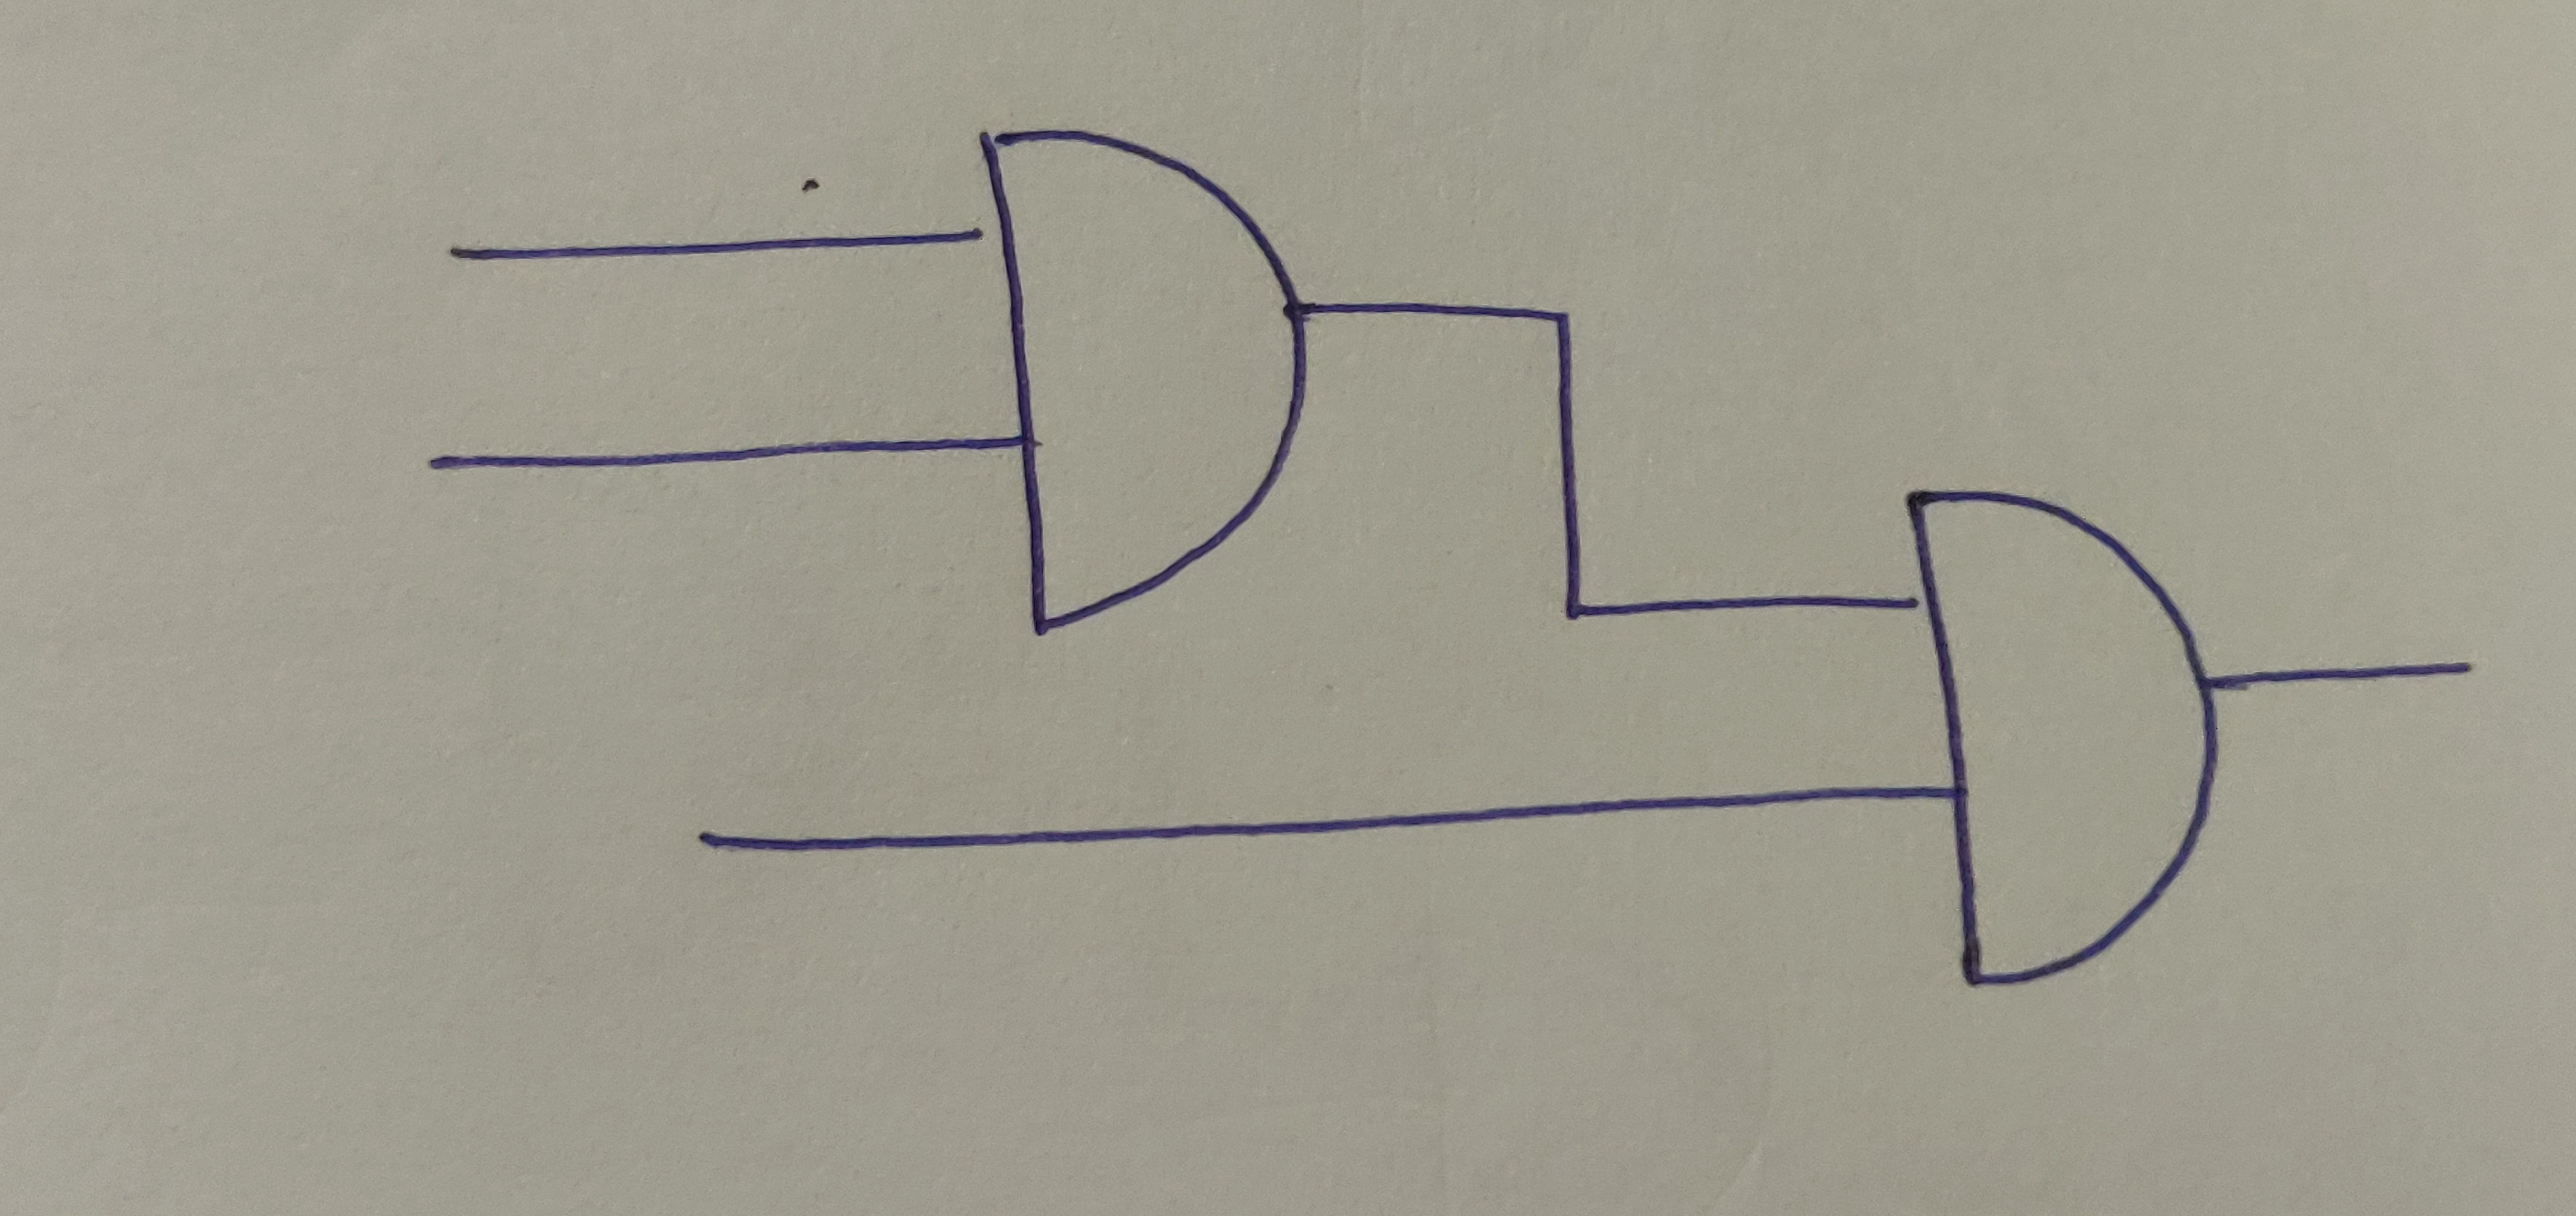and: (978, 122, 1311, 638), (1901, 485, 2221, 991)
